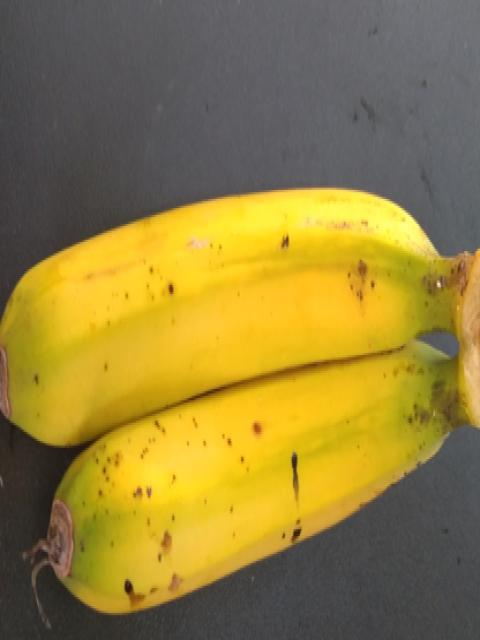freshripe: (0, 168, 434, 428)
ripe: (26, 341, 457, 637)
